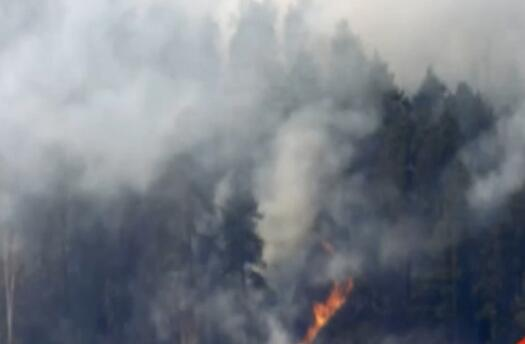fire: (301, 280, 362, 344)
yanwu: (0, 2, 511, 333)
